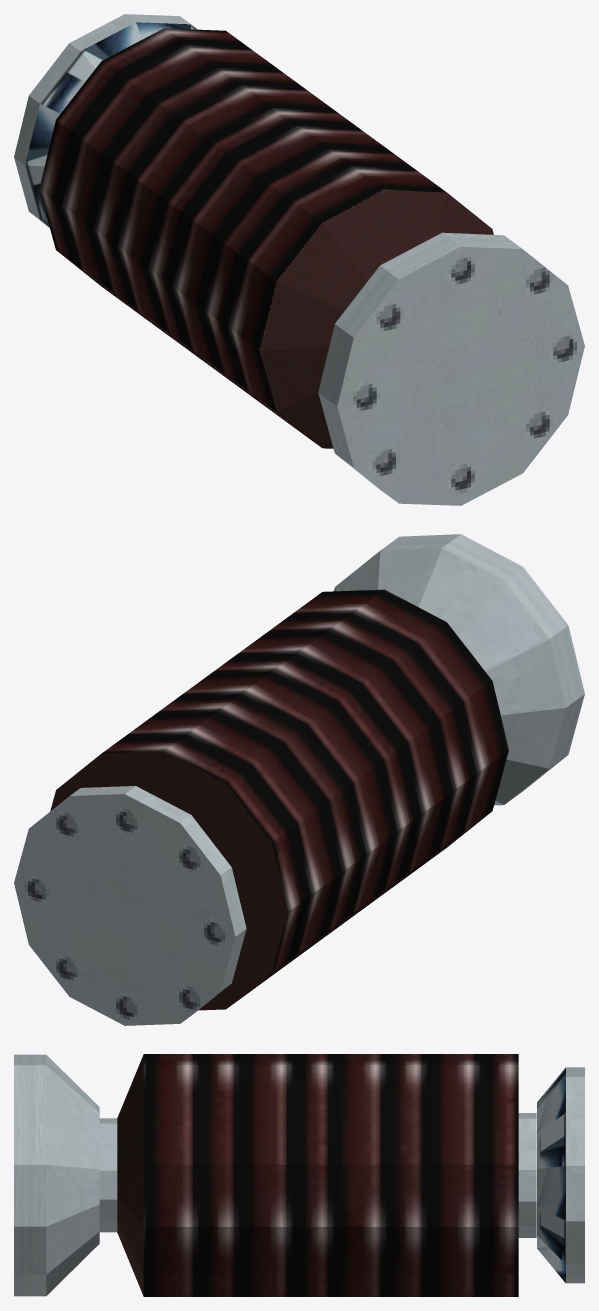
Rendered from jyz072-geode.glb.
The picture shows the model from 3 angles, top to bottom: view 1: azimuth 30°, elevation 25°; view 2: azimuth 150°, elevation 25°; view 3: azimuth 270°, elevation 25°; orthographic projection. The views are drawn at different scales.
Visible parts, largest first — view 1: Node; view 2: Node; view 3: Node.
Part boxes in pixels (<box>): Node: <box>14,14,584,505</box>; Node: <box>14,534,584,1025</box>; Node: <box>14,1054,584,1296</box>.
Bounding box in the file's own units: 0.0917 × 0.0917 × 0.2146.
Materials: 5 (5 with a texture image).
